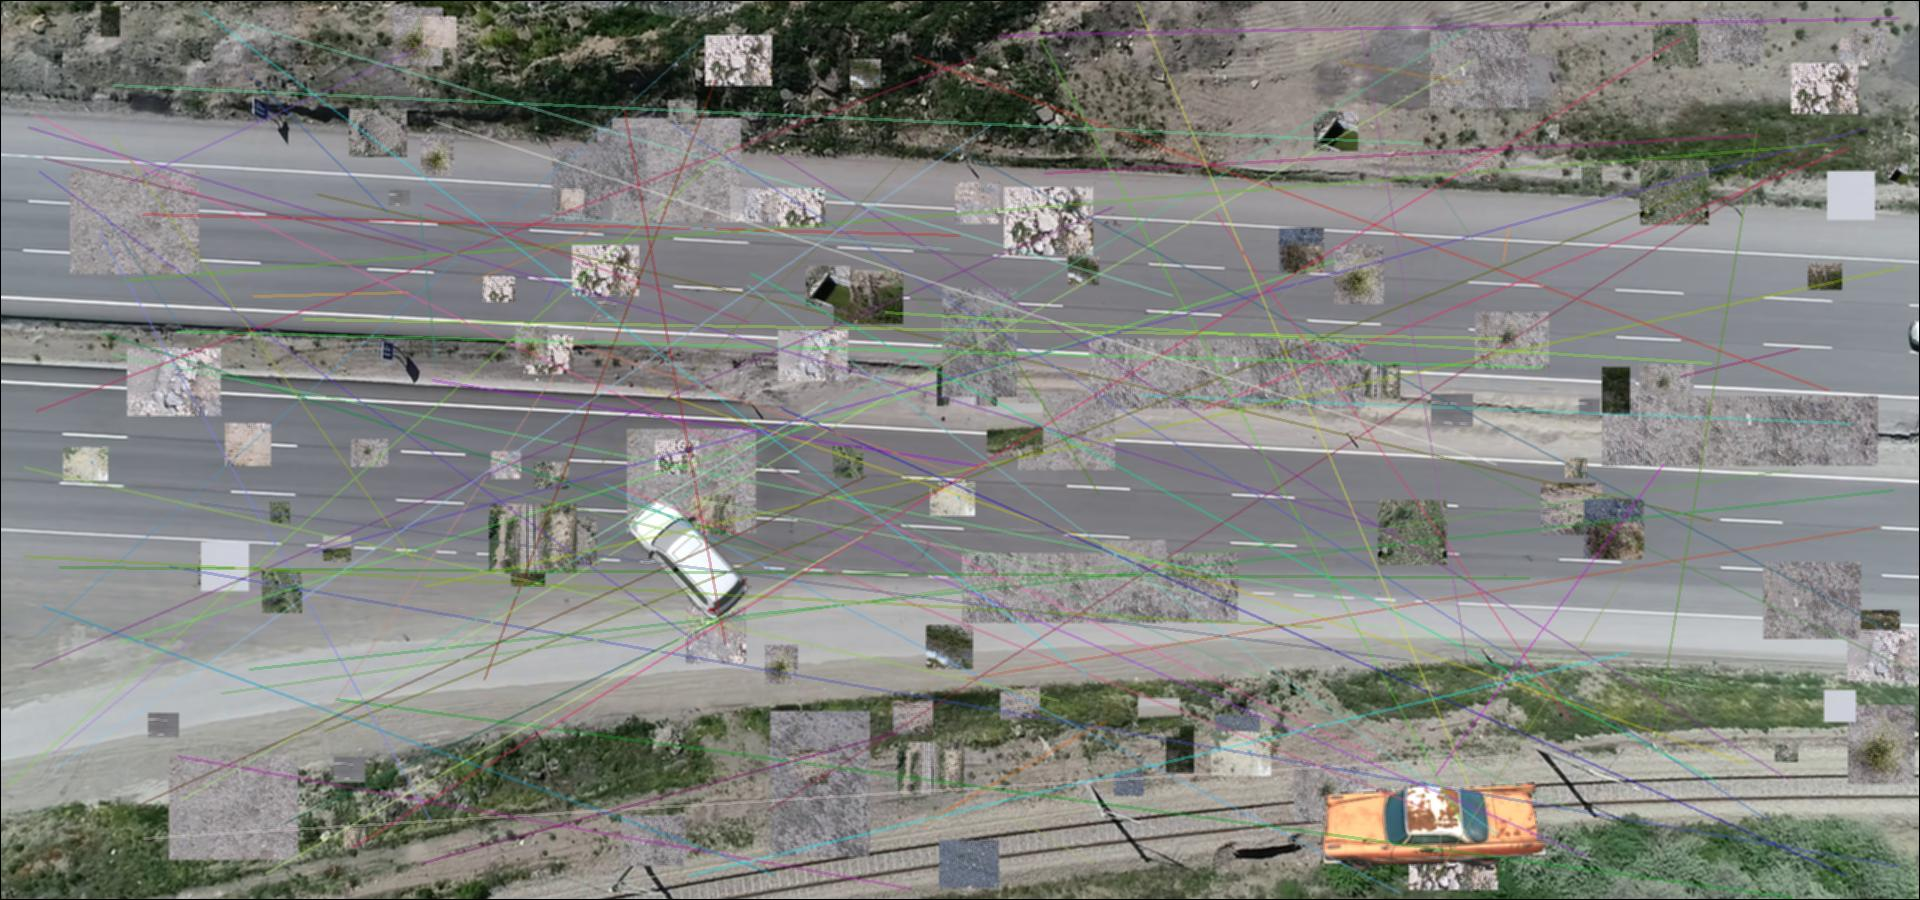arac: (1311, 781, 1575, 869), (624, 486, 751, 620)
